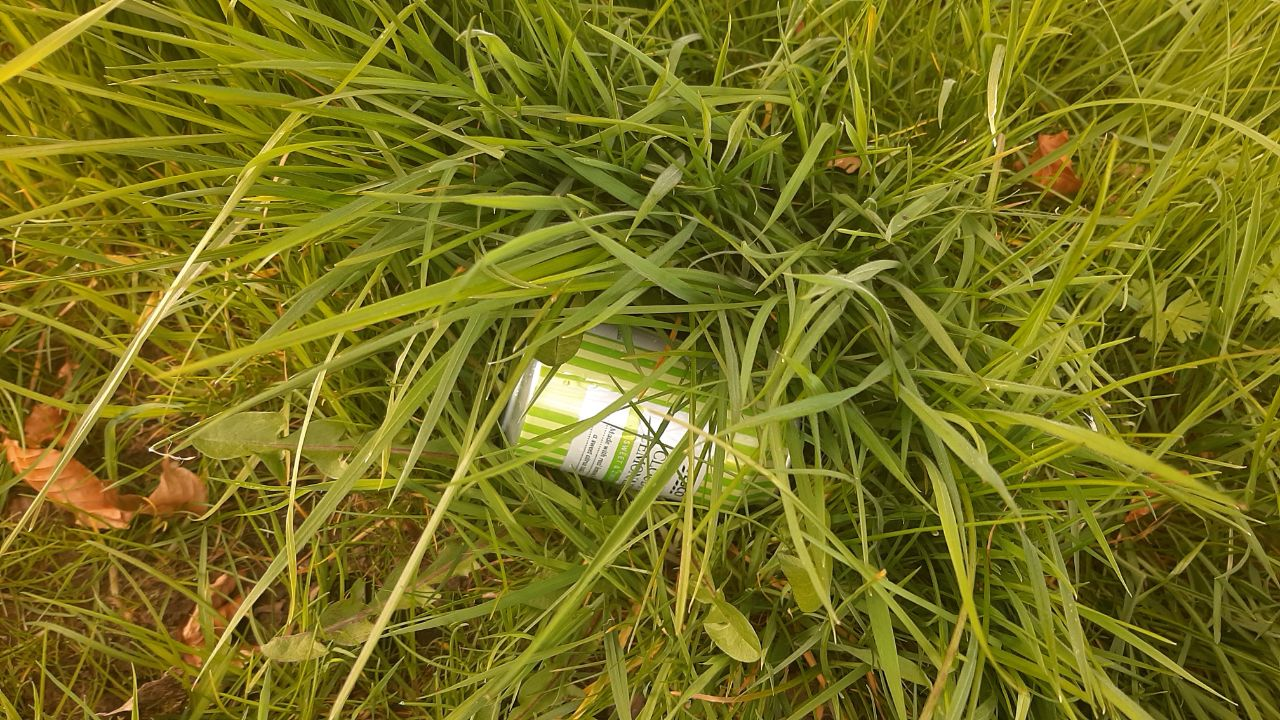Can: (483, 294, 828, 527)
